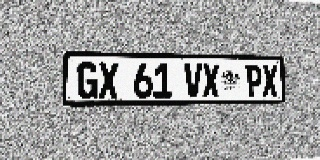1: (153, 63, 172, 98)
6: (134, 63, 153, 98)
G: (77, 62, 98, 99)
P: (246, 64, 262, 97)
V: (184, 63, 202, 98)
X: (98, 62, 118, 99), (202, 64, 219, 97), (262, 65, 278, 97)
